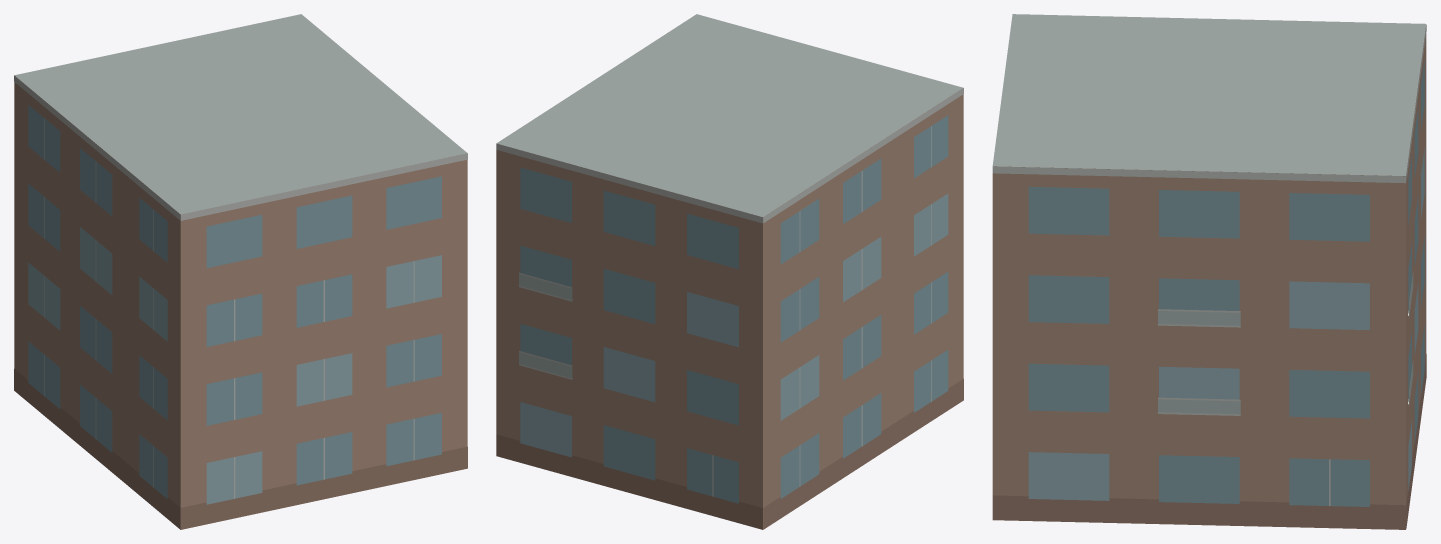
The model's file is residential-d55c38e3-3c64-42cc-82da-540fb517a7dc.glb.
The picture shows the model from 3 angles, left to right: view 1: azimuth 30°, elevation 25°; view 2: azimuth 150°, elevation 25°; view 3: azimuth 270°, elevation 25°; orthographic projection. The views are drawn at different scales.
Visible parts, largest first — view 1: residential-d55c38e3-3c64-42cc-82da-540fb517a7dc.tmp; view 2: residential-d55c38e3-3c64-42cc-82da-540fb517a7dc.tmp; view 3: residential-d55c38e3-3c64-42cc-82da-540fb517a7dc.tmp.
Part boxes in pixels (x1,y1,x2,y2): residential-d55c38e3-3c64-42cc-82da-540fb517a7dc.tmp: (14,14,467,529); residential-d55c38e3-3c64-42cc-82da-540fb517a7dc.tmp: (496,14,963,529); residential-d55c38e3-3c64-42cc-82da-540fb517a7dc.tmp: (992,14,1426,529).
Bounding box in the file's own units: 12 × 12.2 × 13.57.
